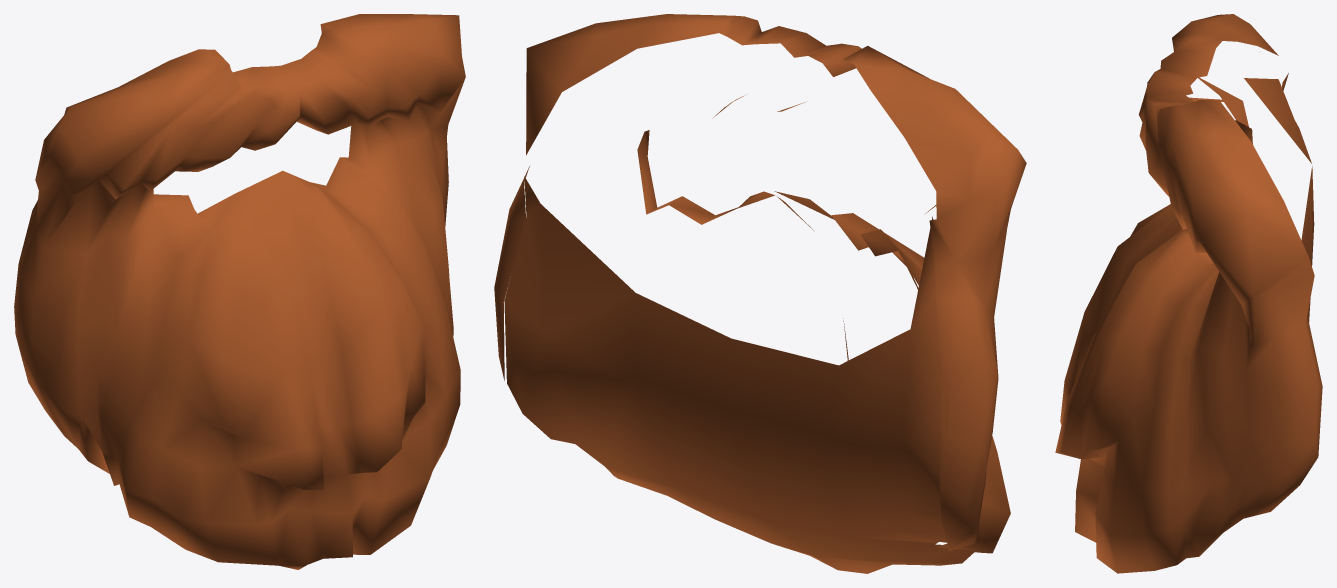
3 renders of one model, left to right at view 1: azimuth 30°, elevation 25°; view 2: azimuth 150°, elevation 25°; view 3: azimuth 270°, elevation 25°, orthographic. The views are drawn at different scales.
Parts seen in each view (by area): view 1: Wolf3D_Beard.002; view 2: Wolf3D_Beard.002; view 3: Wolf3D_Beard.002.
Part boxes in pixels (bbox=[...]): Wolf3D_Beard.002: bbox=[14, 14, 465, 569]; Wolf3D_Beard.002: bbox=[494, 14, 1026, 573]; Wolf3D_Beard.002: bbox=[1055, 14, 1322, 573].
Bounding box in the file's own units: 0.0916 × 0.1008 × 0.051.
Materials: 1 (1 with a texture image).
